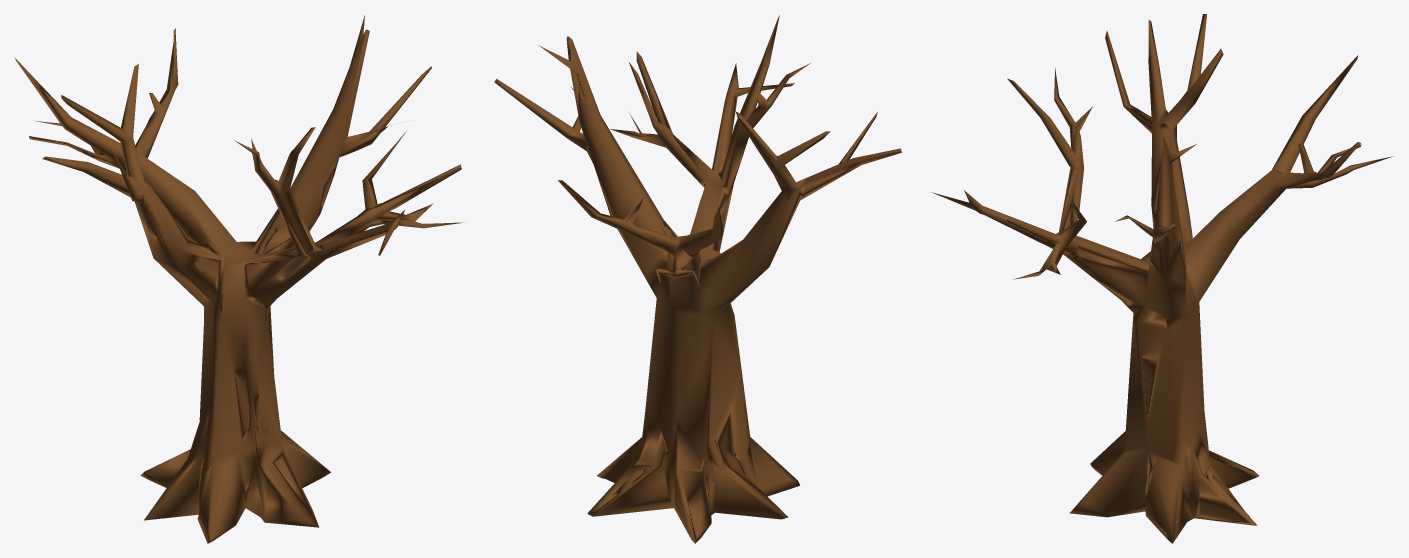
File: gen3d-dead-desert-tree-lod1.glb
The picture shows the model from 3 angles, left to right: view 1: azimuth 30°, elevation 25°; view 2: azimuth 150°, elevation 25°; view 3: azimuth 270°, elevation 25°; orthographic projection. The views are drawn at different scales.
Visible parts, largest first — view 1: part_0; view 2: part_0; view 3: part_0.
Boxes of the visible parts, x1,y1,x2,y2 form: part_0: (14,15,462,543); part_0: (494,15,901,543); part_0: (932,14,1392,543).
Bounding box in the file's own units: 0.9622 × 1 × 0.9954.
